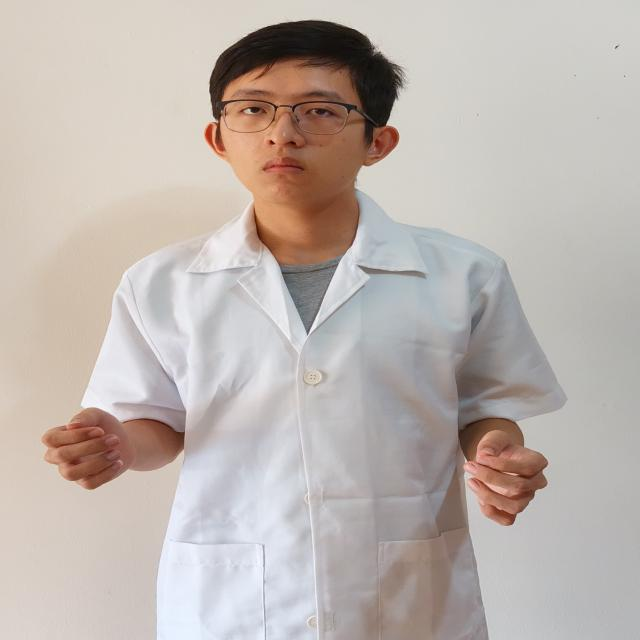person_with_labcoat: (43, 20, 564, 640)
